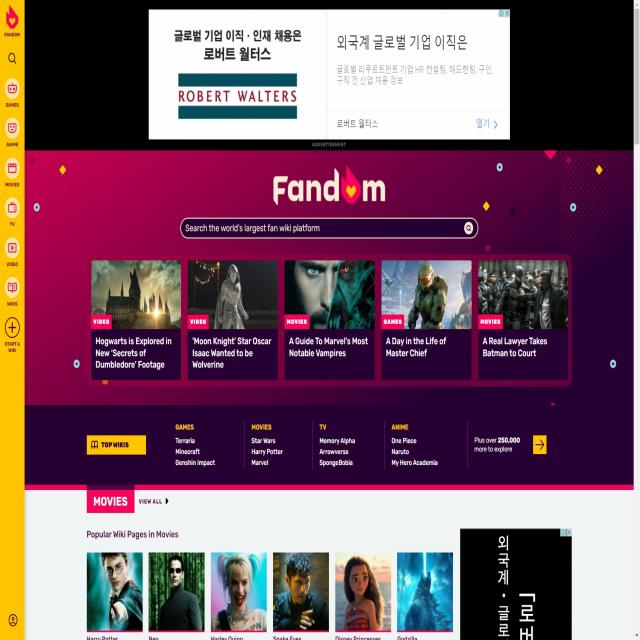search: (180, 215, 478, 240)
